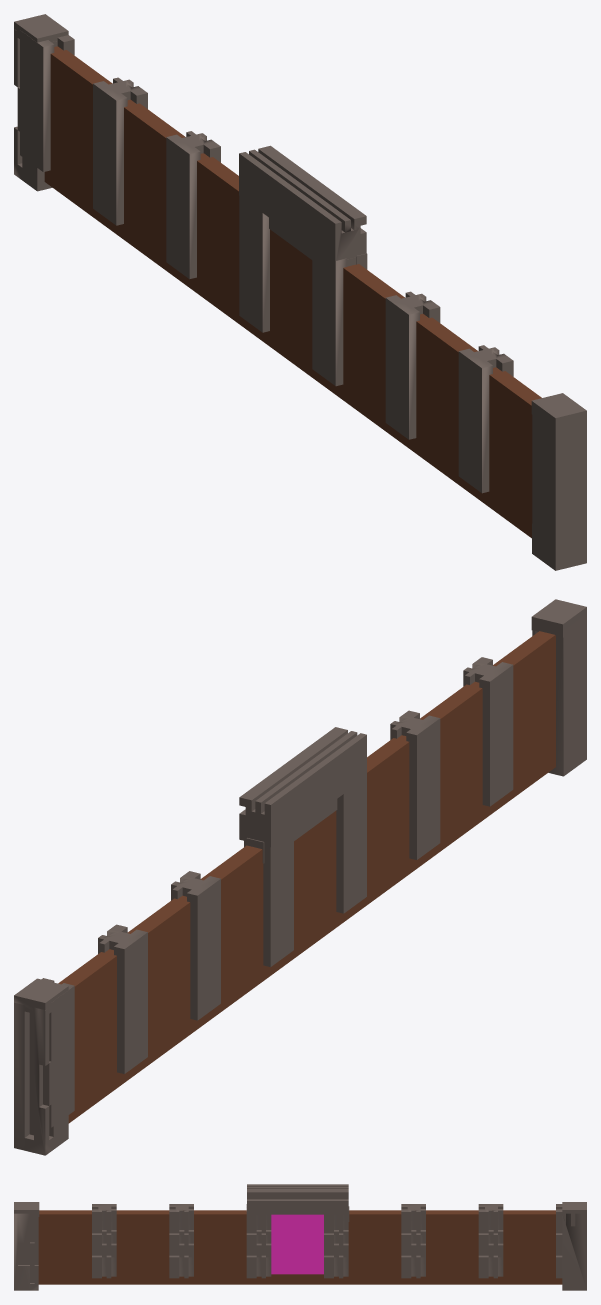
Rendered from NEW wall.fbx.
3 renders of one model, top to bottom at view 1: azimuth 30°, elevation 25°; view 2: azimuth 150°, elevation 25°; view 3: azimuth 270°, elevation 25°, orthographic. The views are drawn at different scales.
Visible parts, largest first — view 1: Null; view 2: Null; view 3: Null.
Part boxes in pixels (x1,y1,x2,y2): Null: [14, 14, 586, 570]; Null: [14, 599, 586, 1155]; Null: [14, 1184, 586, 1290].
Size of the model in its own units: 100 by 561 by 2963.
